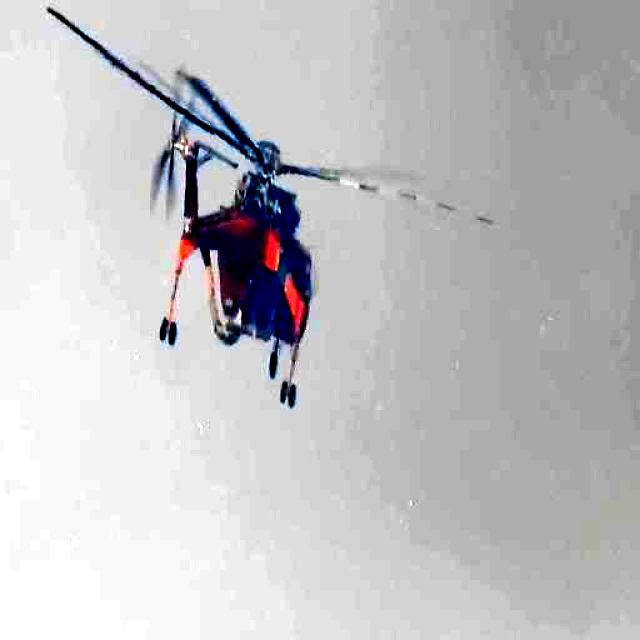drone: (21, 0, 372, 449)
